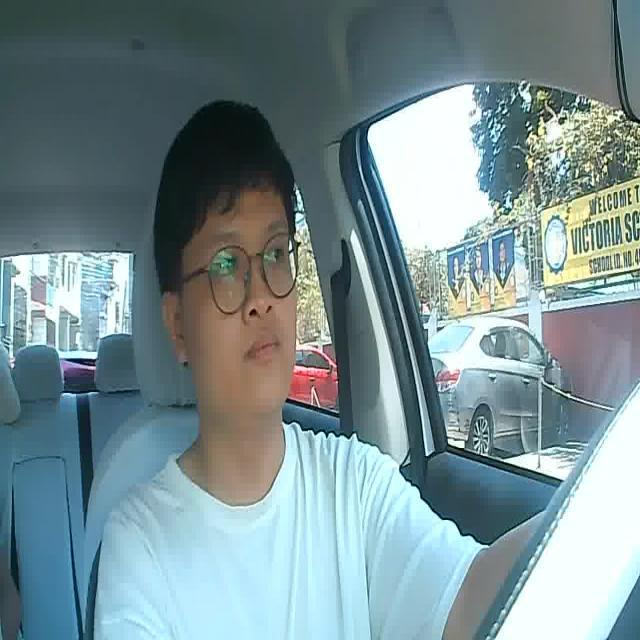Attentive: (174, 105, 320, 422)
Eye-Open: (212, 252, 245, 278), (260, 243, 282, 266)
Normal: (245, 332, 282, 368)
